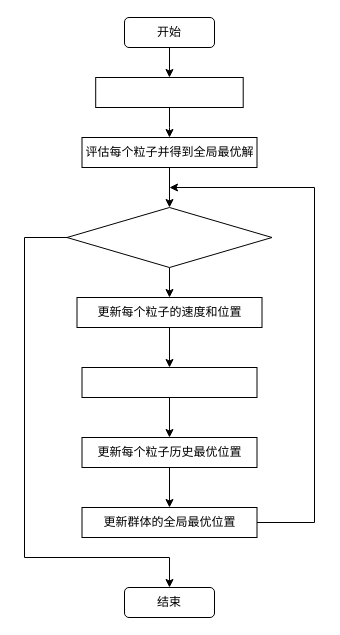
This 340x635 diagram has some shape labels left out. The shapes that lost their labels are listed below. From the top down, each one's centre as x and y in pixels, then its label:
At (x=169, y=92): "随机初始化每个粒子".
At (x=169, y=237): "满足结束条件".
At (x=169, y=382): "评估每个粒子的函数适应值".
